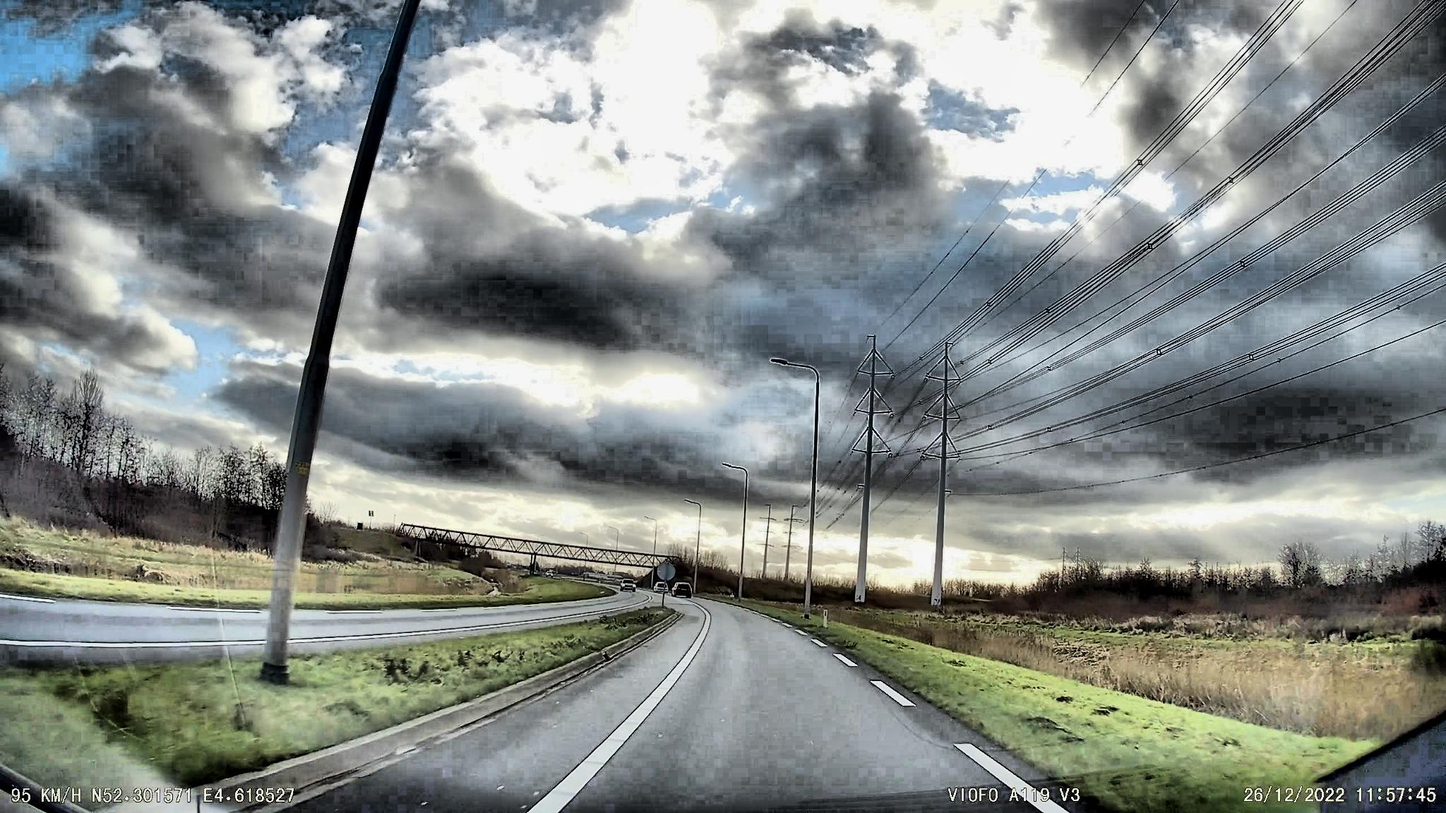Roads: (0, 601, 1109, 813)
